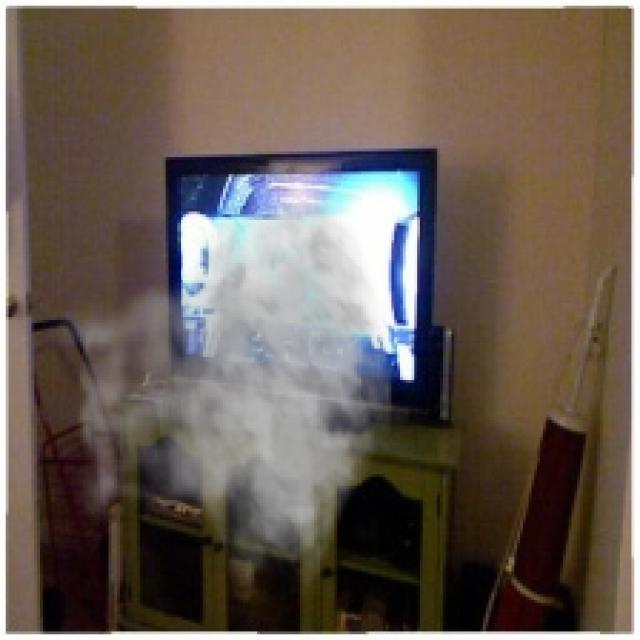smoke: (46, 189, 394, 594)
